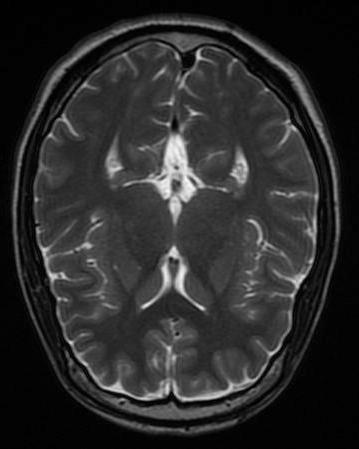Normal_Brain: (14, 18, 359, 449)
